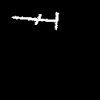double_crochet: (12, 12, 58, 29)
